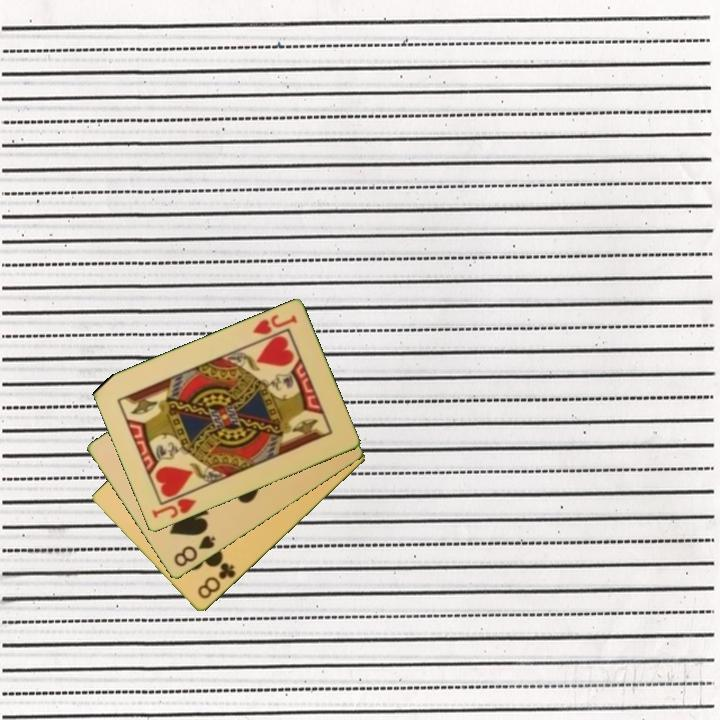8c: (194, 559, 238, 602)
8s: (170, 532, 218, 570)
Jh: (148, 495, 199, 522), (249, 311, 300, 338)
